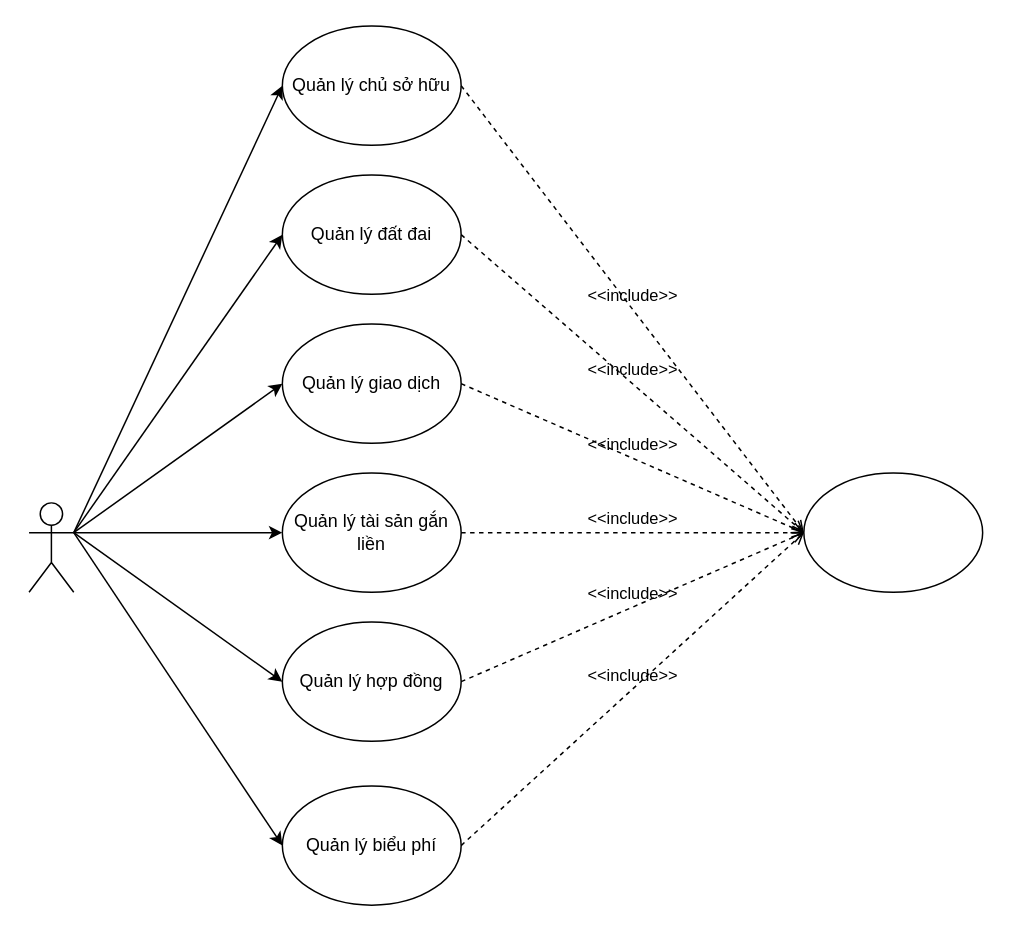
This 1009x931 diagram has some shape labels left out. The centre of each missing label's shape, as x and y in pixels:
"Admin" goes at point (51, 546).
"Đăng nhập" goes at point (892, 532).
